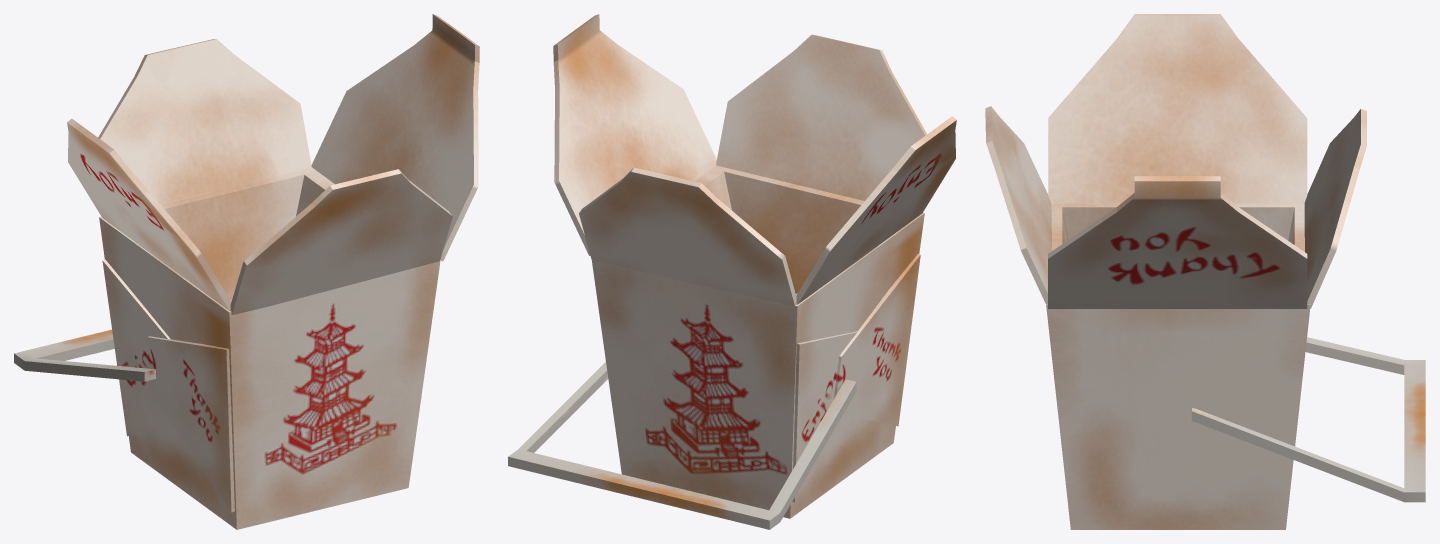
File: chinese_food_box.glb
3 views of the same model, side by side, from view 1: azimuth 30°, elevation 25°; view 2: azimuth 150°, elevation 25°; view 3: azimuth 270°, elevation 25° (orthographic). The views are drawn at different scales.
Parts seen in each view (by area): view 1: Object_2; view 2: Object_2; view 3: Object_2.
Boxes of the visible parts, left/top/right/bottom form: Object_2: left=14, top=14, right=479, bottom=529; Object_2: left=508, top=14, right=956, bottom=529; Object_2: left=985, top=14, right=1425, bottom=529.
Size of the model in its own units: 0.2716 by 0.2776 by 0.2755.
1 material, 1 textured.
